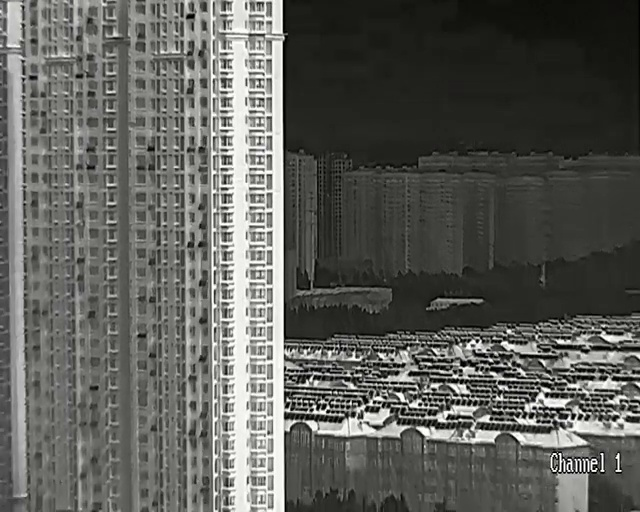uav: (127, 121, 137, 127)
